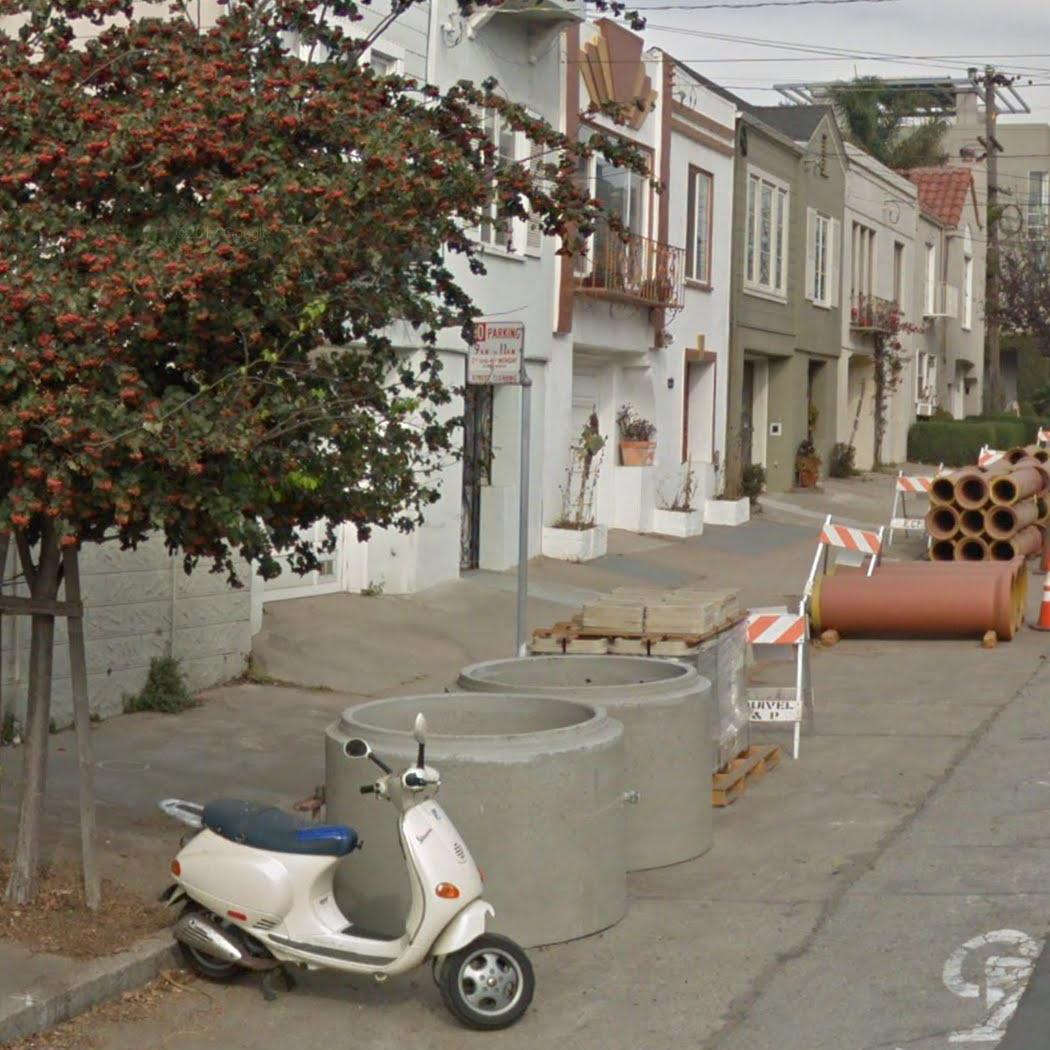No Parking: (465, 320, 527, 387)
